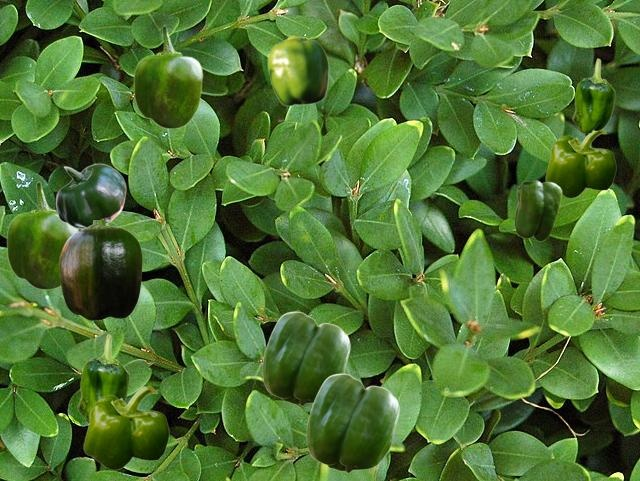bell_pepper: (306, 373, 398, 472), (262, 311, 349, 405), (59, 220, 141, 319), (6, 181, 78, 289), (83, 385, 168, 469), (133, 25, 202, 128), (545, 129, 615, 197), (55, 163, 125, 228), (77, 334, 128, 423), (267, 35, 328, 105), (572, 58, 614, 132), (514, 180, 561, 240)
